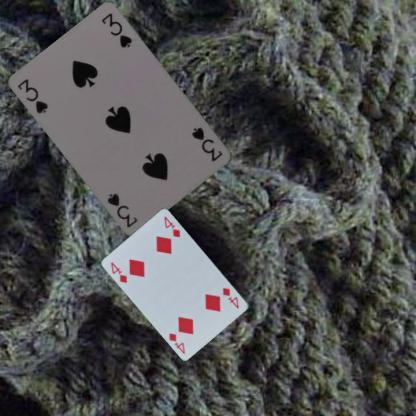3s: (189, 124, 224, 164), (15, 76, 50, 115)
4d: (220, 285, 240, 310), (108, 260, 128, 284)
